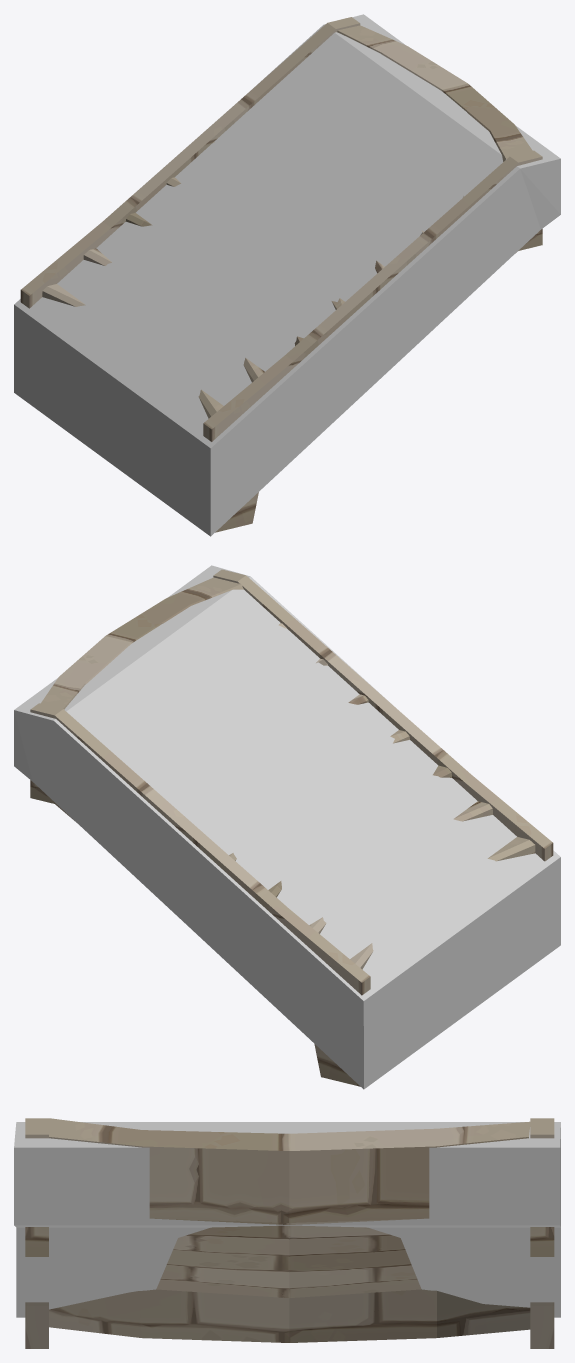
File: SM_Bld_Stairs_01.fbx
The picture shows the model from 3 angles, top to bottom: view 1: azimuth 30°, elevation 25°; view 2: azimuth 150°, elevation 25°; view 3: azimuth 270°, elevation 25°; orthographic projection. The views are drawn at different scales.
Visible parts, largest first — view 1: SM_Bld_Stairs_01_ConvexHulls, SM_Bld_Stairs_01; view 2: SM_Bld_Stairs_01_ConvexHulls, SM_Bld_Stairs_01; view 3: SM_Bld_Stairs_01, SM_Bld_Stairs_01_ConvexHulls.
Boxes of the visible parts, left/top/right/bottom form: SM_Bld_Stairs_01_ConvexHulls: left=14, top=14, right=560, bottom=536; SM_Bld_Stairs_01: left=20, top=17, right=542, bottom=532; SM_Bld_Stairs_01_ConvexHulls: left=14, top=565, right=560, bottom=1089; SM_Bld_Stairs_01: left=30, top=569, right=553, bottom=1086; SM_Bld_Stairs_01: left=25, top=1118, right=554, bottom=1348; SM_Bld_Stairs_01_ConvexHulls: left=14, top=1122, right=560, bottom=1317.
Size of the model in its own units: 269 by 259 by 214.
Materials: 2 (1 with a texture image).
